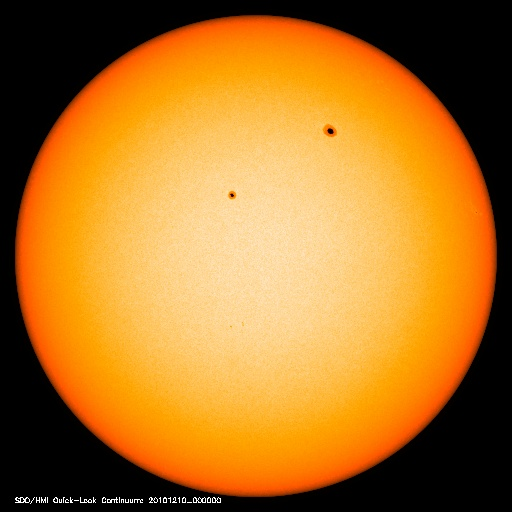sunspot: (314, 115, 346, 148), (220, 181, 247, 209)
